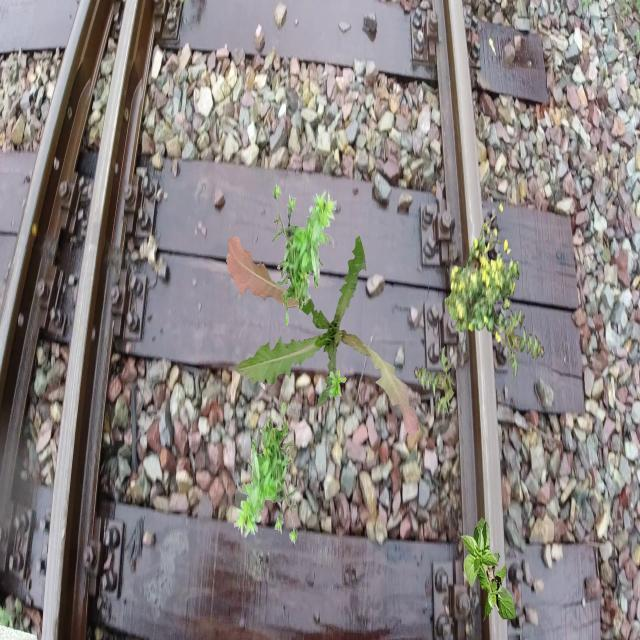Plant: (226, 234, 418, 436), (445, 203, 520, 343), (234, 402, 298, 546), (272, 182, 336, 326), (460, 517, 508, 612), (414, 346, 456, 418), (503, 308, 544, 380), (475, 551, 516, 622), (329, 369, 346, 401)
